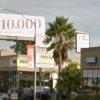Palm tree: (44, 12, 85, 92)
